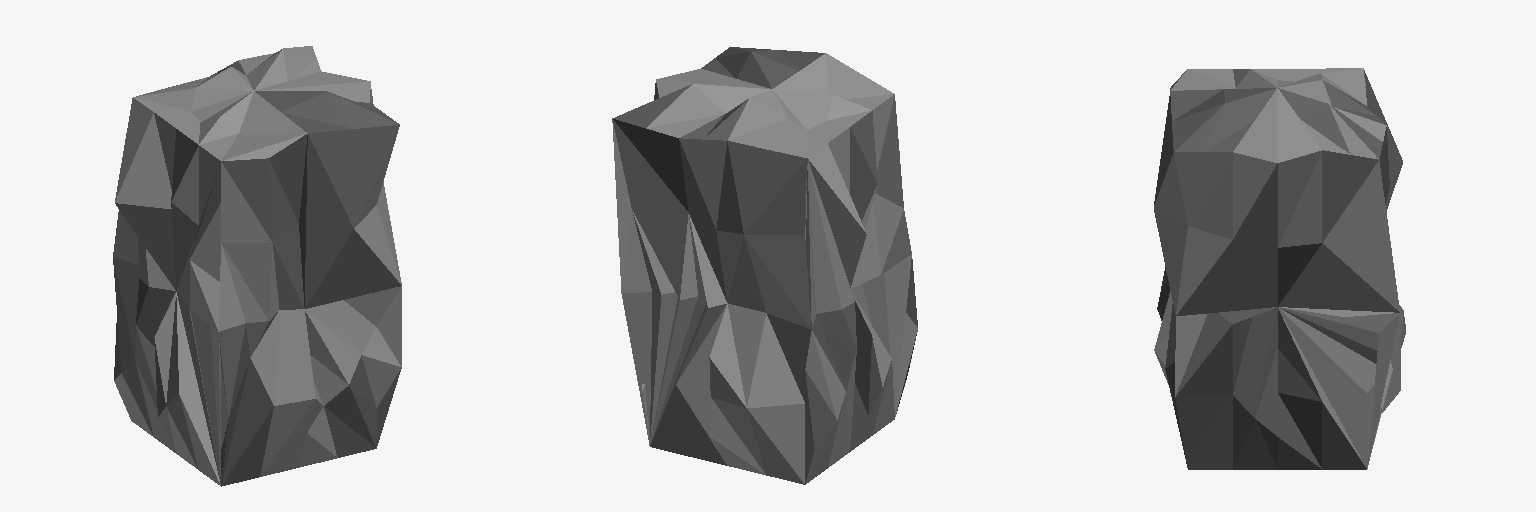
The model's file is cloud.obj.
3 views of the same model, side by side, from view 1: azimuth 30°, elevation 25°; view 2: azimuth 150°, elevation 25°; view 3: azimuth 270°, elevation 25° (orthographic).
Parts seen in each view (by area): view 1: Cloud_Cube.001; view 2: Cloud_Cube.001; view 3: Cloud_Cube.001.
Part boxes in pixels (left/top/right/bottom): Cloud_Cube.001: left=113, top=46, right=401, bottom=486; Cloud_Cube.001: left=612, top=47, right=917, bottom=484; Cloud_Cube.001: left=1154, top=68, right=1405, bottom=469.
Bounding box in the file's own units: 0.7735 × 1.09 × 0.7048.